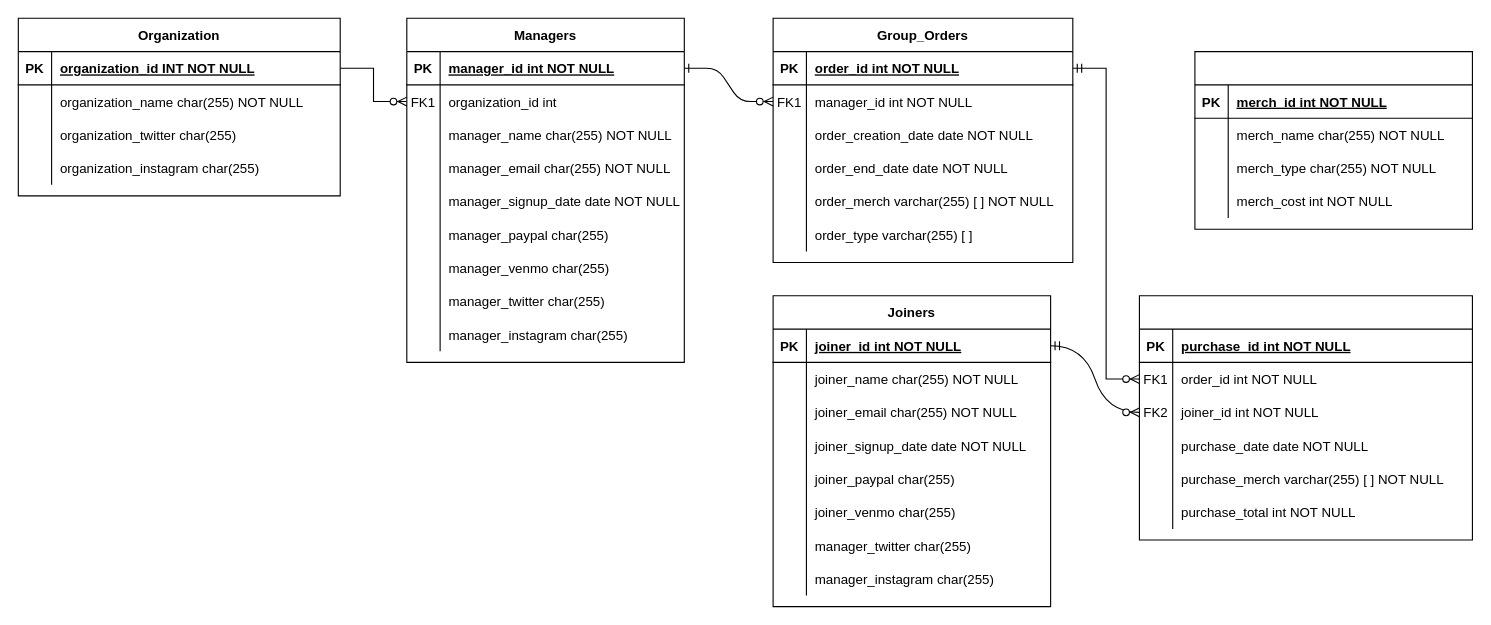
Image size: 1491x625. Some labels were removed from this diagram. The shapes that lost their labels are listed below. From the top down, each one's box as (x1, y1, x2, y2) in pixels, then its label:
(1194, 51, 1472, 229): Merchandise
(1138, 295, 1472, 540): Purchases
